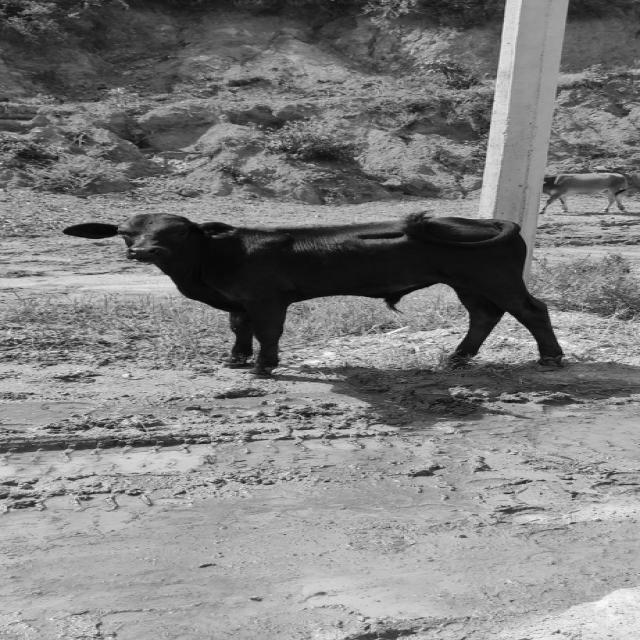cow: (64, 212, 564, 376)
